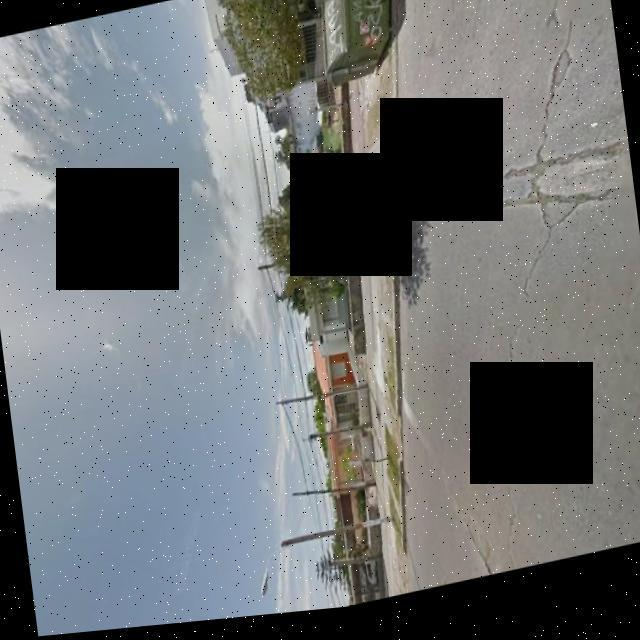bin: (302, 0, 422, 112)
